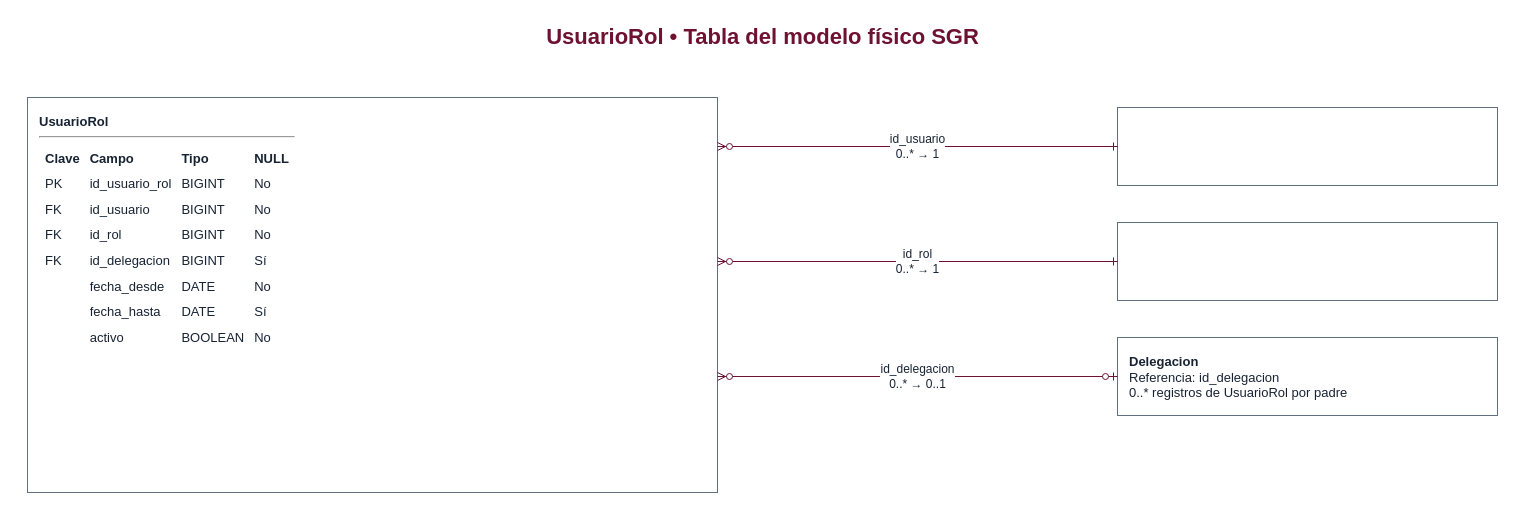
Some shapes in this 1524 by 510 pixel diagram are drawn without their labels. The shapes that lost their labels are listed below. From the top down, each one's centre as x and y in pixels, then its label:
the point at 1307,146: Usuario Referencia: id_usuario 0..* registros de UsuarioRol por padre
the point at 1307,261: Rol Referencia: id_rol 0..* registros de UsuarioRol por padre
